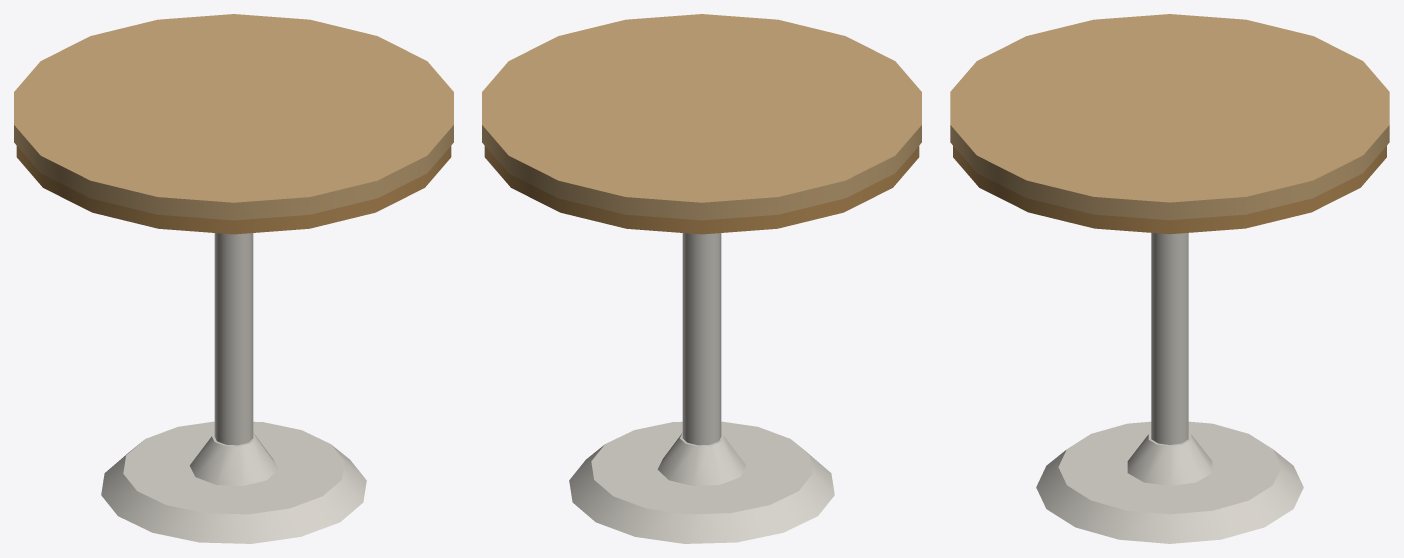
File: cafe_table.glb
The picture shows the model from 3 angles, left to right: view 1: azimuth 30°, elevation 25°; view 2: azimuth 150°, elevation 25°; view 3: azimuth 270°, elevation 25°; orthographic projection.
Visible parts, largest first — view 1: body; view 2: body; view 3: body.
Part boxes in pixels (x1,y1,x2,y2): body: (14,14,453,543); body: (482,14,921,543); body: (950,14,1389,543).
Bounding box in the file's own units: 0.8 × 0.75 × 0.7878.
